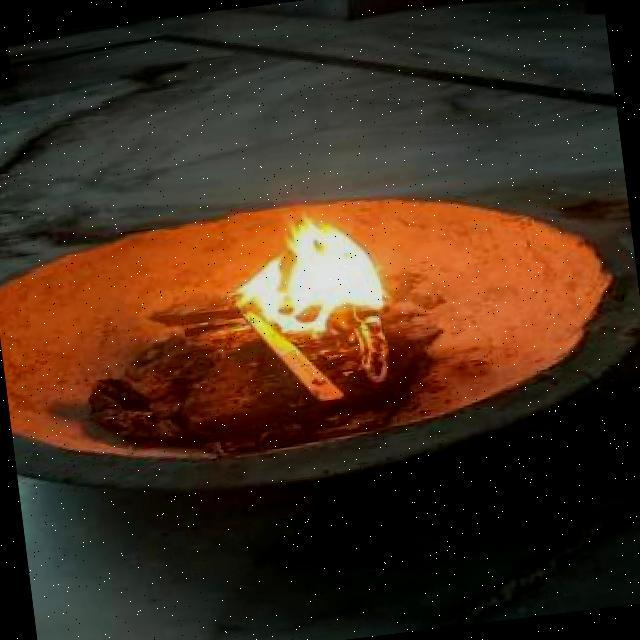Fire: (220, 202, 416, 365)
